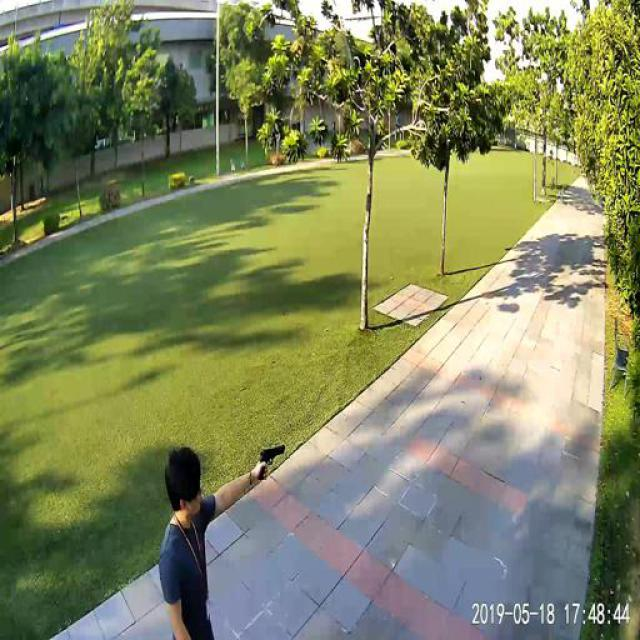Gun: (256, 441, 284, 479)
